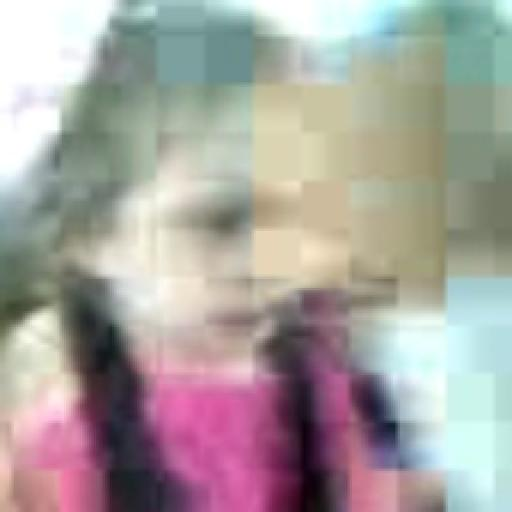Autism: (48, 20, 486, 490)
